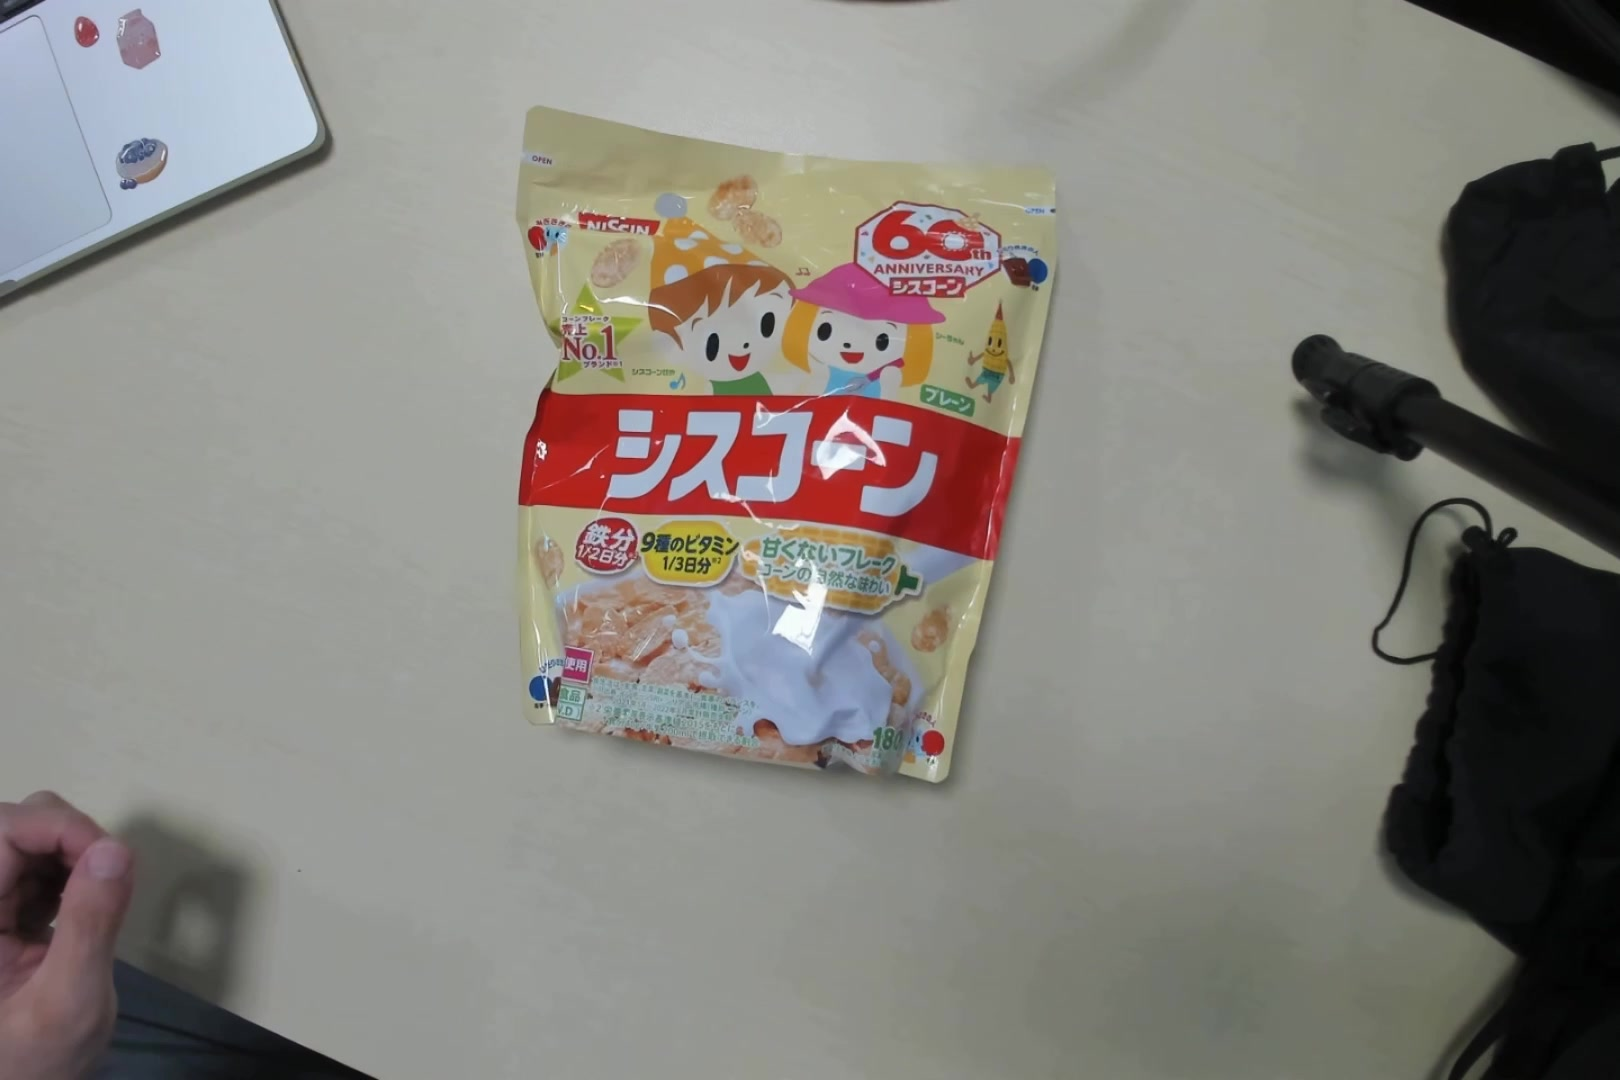BreakfastCereals_100-199g_NonHalal_NonHealthy: (513, 108, 1035, 808)
